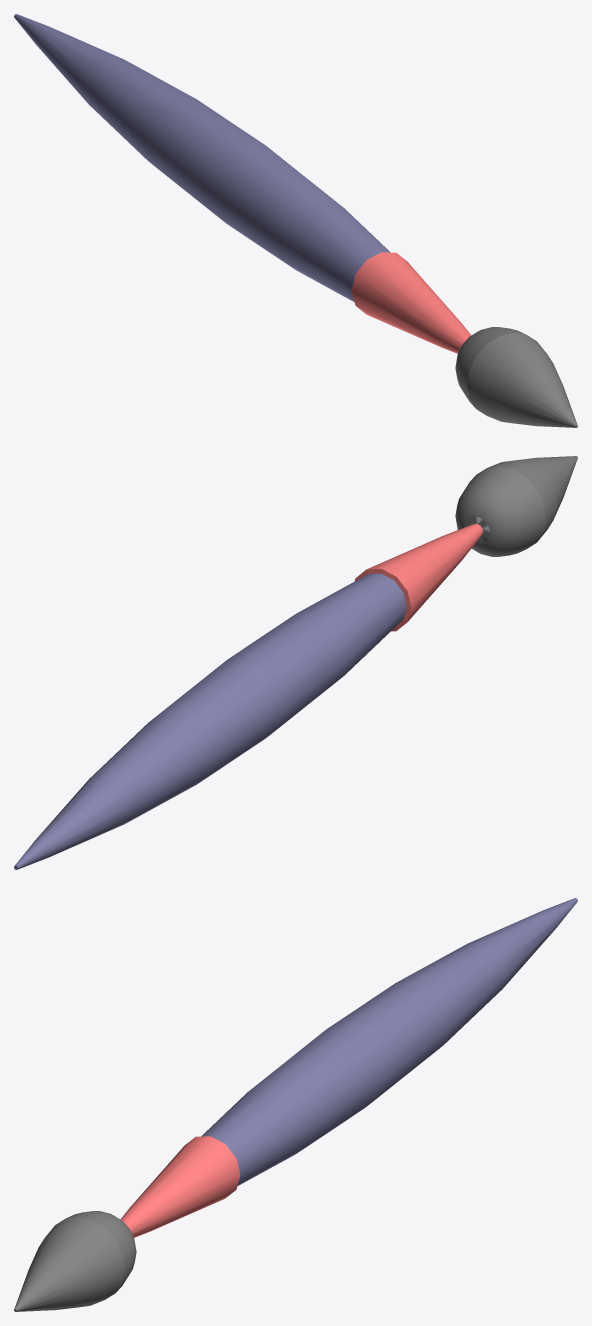
The model's file is PaintBrush.fbx.
The picture shows the model from 3 angles, top to bottom: view 1: azimuth 30°, elevation 25°; view 2: azimuth 150°, elevation 25°; view 3: azimuth 330°, elevation 25°; orthographic projection.
Parts seen in each view (by area): view 1: Line001; view 2: Line001; view 3: Line001.
Boxes of the visible parts, bbox=[...] form: Line001: bbox=[14, 14, 577, 427]; Line001: bbox=[14, 456, 577, 869]; Line001: bbox=[14, 898, 577, 1311].
Bounding box in the file's own units: 0.00592 × 0.00583 × 0.0726.
